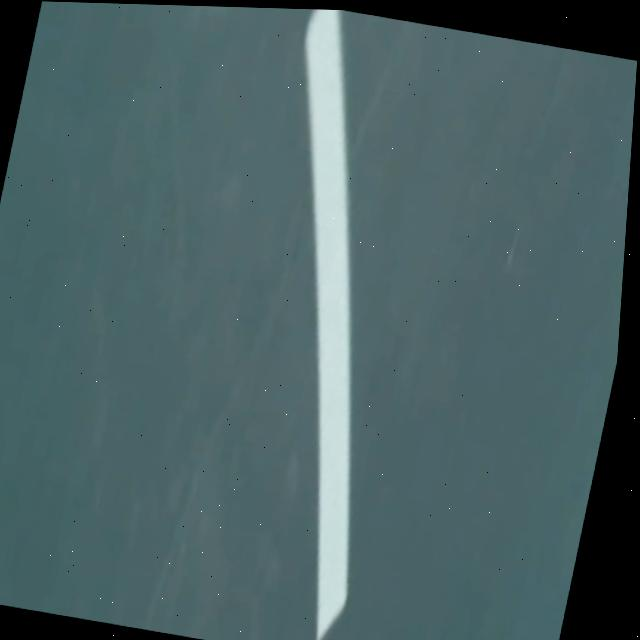center: (305, 9, 350, 640)
